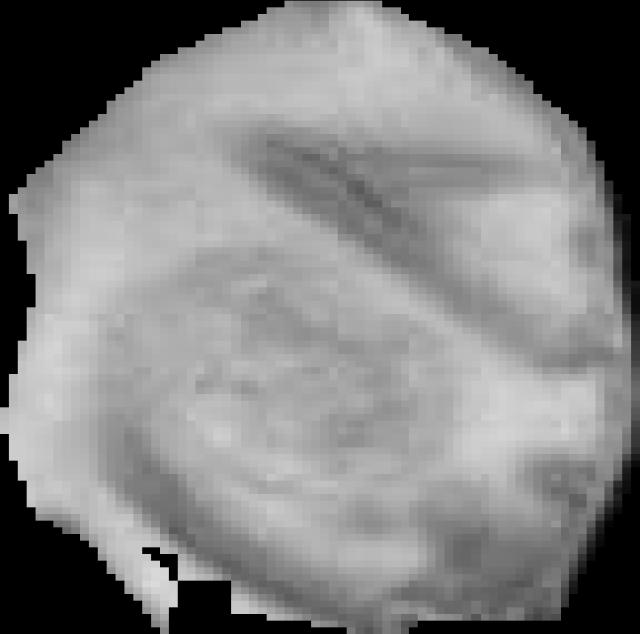tumor_moderate_chance: (0, 1, 640, 634)
